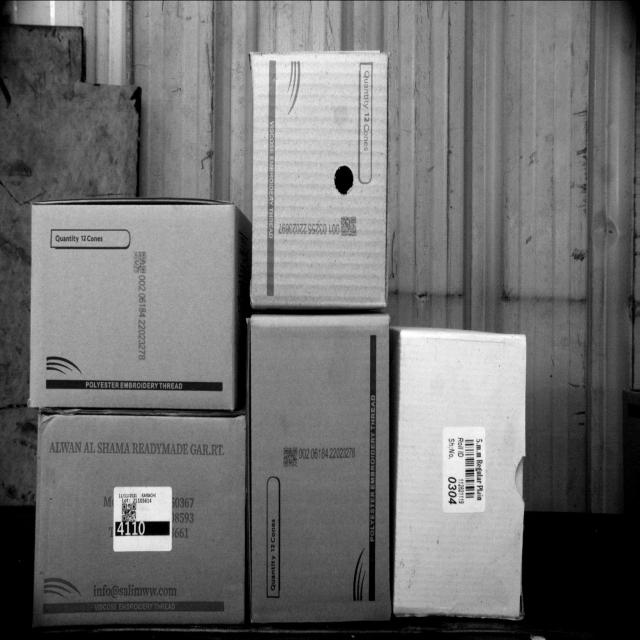cardboxes: (250, 317, 389, 629), (34, 417, 246, 619), (30, 205, 236, 412), (393, 332, 527, 618), (254, 54, 387, 302)
